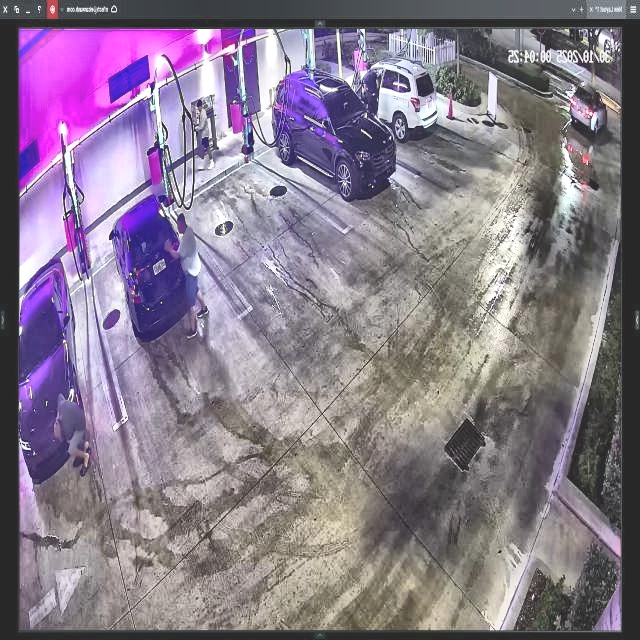Car: (273, 68, 394, 200), (107, 192, 194, 343)
